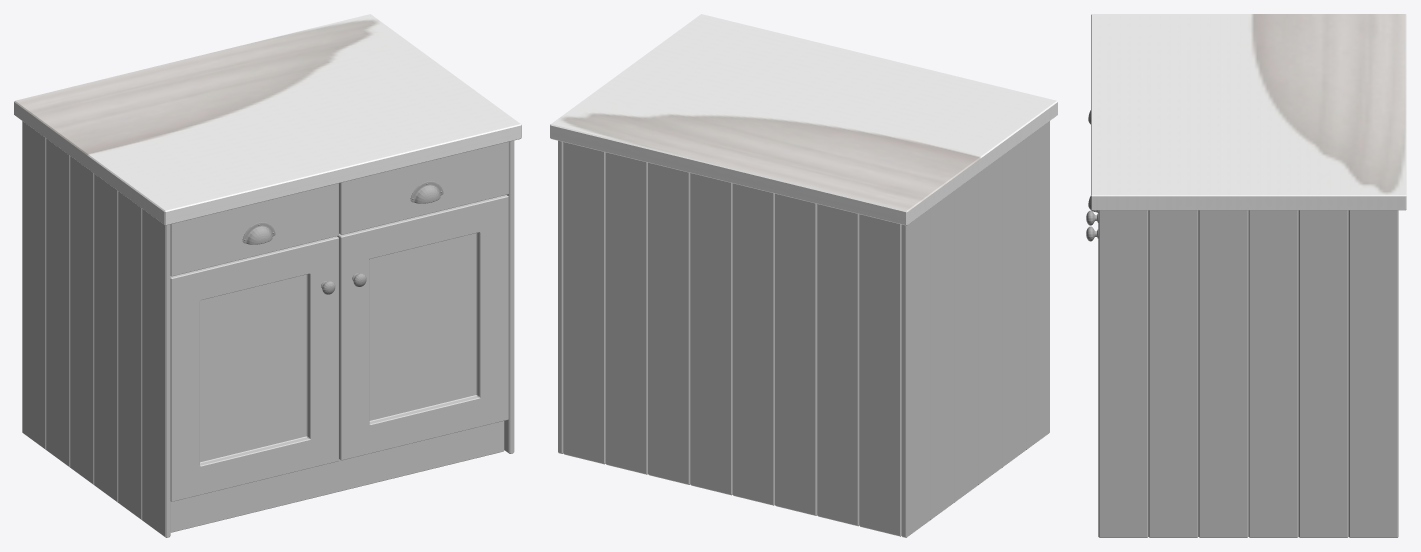
Rendered from kitchenIsland.obj.
The picture shows the model from 3 angles, left to right: view 1: azimuth 30°, elevation 25°; view 2: azimuth 150°, elevation 25°; view 3: azimuth 270°, elevation 25°; orthographic projection. The views are drawn at different scales.
Parts seen in each view (by area): view 1: Cube.050_Cube.029, Worktop-Island_Cube.052, Island-Panel3_Cube.054, Island-base-trim_Cube.023, Island-Panel1_Cube.053, Cup-Handle-Island_Sphere.011; view 2: Island-Panel2_Cube.055, Worktop-Island_Cube.052, Island-Panel3_Cube.054, Island-Panel1_Cube.053; view 3: Island-Panel1_Cube.053, Worktop-Island_Cube.052.
Part boxes in pixels (x1,y1,x2,y2): Cube.050_Cube.029: (170,142,508,501); Worktop-Island_Cube.052: (14,14,521,225); Island-Panel3_Cube.054: (22,121,170,537); Island-base-trim_Cube.023: (170,421,504,532); Island-Panel1_Cube.053: (504,140,514,453); Cup-Handle-Island_Sphere.011: (242,181,443,244); Island-Panel2_Cube.055: (563,142,901,536); Worktop-Island_Cube.052: (550,14,1057,225); Island-Panel3_Cube.054: (901,121,1049,537); Island-Panel1_Cube.053: (558,140,563,453); Island-Panel1_Cube.053: (1098,210,1398,537); Worktop-Island_Cube.052: (1091,14,1406,210).
Size of the model in its own units: 93.88 by 83.09 by 69.94.
